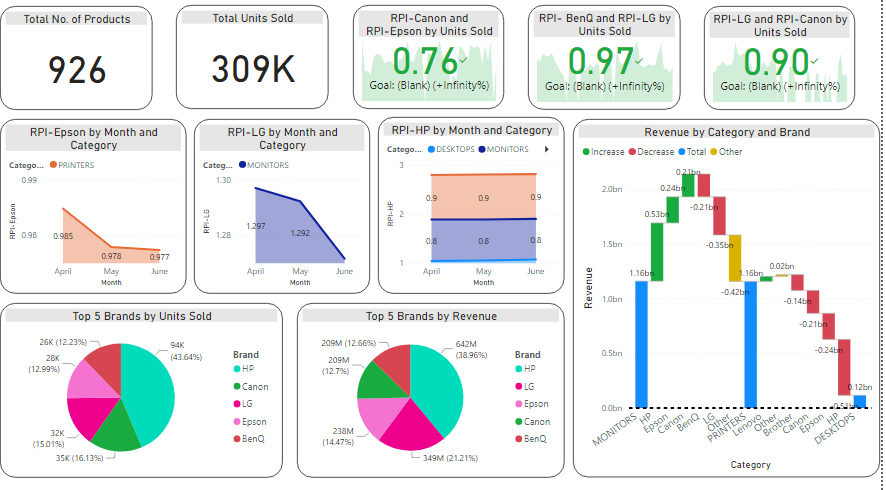

Layout of this report page (visuals, bound fields, positions):
{"tool":"powerbi","page":{"name":"Additional-Insights","canvas":[1280,720],"ordinal":1},"visuals":[{"type":"card","title":"Total No. of Products","fields":{"Values":["Count(DATA.Prod ID)"]},"box":[10.1,13.4,220.1,149.5],"z":0},{"type":"card","title":"Total Units Sold","fields":{"Values":["Sum(DATA.Units Sold)"]},"box":[264.6,11.8,220.1,149.5],"z":1},{"type":"kpi","fields":{"Indicator":["DATA.RPI-Canon"],"Goal":["DATA.RPI-Epson"],"TrendLine":["DATA.Units Sold"]},"box":[519.1,11.8,218.4,149.5],"z":2},{"type":"kpi","fields":{"TrendLine":["DATA.Units Sold"],"Goal":["DATA.RPI-LG"],"Indicator":["DATA.RPI- BenQ"]},"box":[771.9,11.8,220.1,151.2],"z":4},{"type":"kpi","fields":{"Indicator":["DATA.RPI-LG"],"TrendLine":["DATA.Units Sold"],"Goal":["DATA.RPI-Canon"]},"box":[1026.4,13.4,218.4,149.5],"z":5},{"type":"stackedAreaChart","fields":{"Category":["DATA.Date.Variation.Date Hierarchy.Month"],"Series":["DATA.Category"],"Y":["DATA.RPI-Epson"]},"box":[10.1,176.4,268.8,252],"z":6},{"type":"stackedAreaChart","fields":{"Category":["DATA.Date.Variation.Date Hierarchy.Month"],"Series":["DATA.Category"],"Y":["DATA.RPI-HP"]},"box":[556,173,268.8,255.3],"z":7},{"type":"stackedAreaChart","fields":{"Category":["DATA.Date.Variation.Date Hierarchy.Month"],"Series":["DATA.Category"],"Y":["DATA.RPI-LG"]},"box":[290.6,176.4,253.6,252],"z":10},{"type":"waterfallChart","fields":{"Category":["DATA.Category"],"Breakdown":["DATA.Brand"],"Y":["Sum(DATA.Revenue)"]},"box":[836.5,176.4,443.5,517.4],"z":11},{"type":"pieChart","title":"Top 5 Brands by Units Sold","fields":{"Category":["DATA.Brand"],"Y":["Sum(DATA.Units Sold)"]},"box":[10.1,441.8,408.2,252],"z":12},{"type":"pieChart","title":"Top 5 Brands by Revenue","fields":{"Category":["DATA.Brand"],"Y":["Sum(DATA.Revenue)"]},"box":[438.4,441.8,386.4,252],"z":13}]}

Visuals, with their boxes in screenshot pixels (x1, y1, x2, y2), scaled from the page's 1280x720 canvas onto the 886x490 screenshot:
"Total No. of Products" card: BBox(7, 9, 159, 111)
"Total Units Sold" card: BBox(183, 8, 336, 110)
kpi - DATA.RPI-Canon x DATA.RPI-Epson: BBox(359, 8, 510, 110)
kpi - DATA.Units Sold x DATA.RPI-LG: BBox(534, 8, 687, 111)
kpi - DATA.RPI-LG x DATA.Units Sold: BBox(710, 9, 862, 111)
stackedAreaChart - DATA.Date.Variation.Date Hierarchy.Month x DATA.Category: BBox(7, 120, 193, 292)
stackedAreaChart - DATA.Date.Variation.Date Hierarchy.Month x DATA.Category: BBox(385, 118, 571, 291)
stackedAreaChart - DATA.Date.Variation.Date Hierarchy.Month x DATA.Category: BBox(201, 120, 377, 292)
waterfallChart - DATA.Category x DATA.Brand: BBox(579, 120, 885, 472)
"Top 5 Brands by Units Sold" pieChart: BBox(7, 301, 290, 472)
"Top 5 Brands by Revenue" pieChart: BBox(303, 301, 571, 472)
